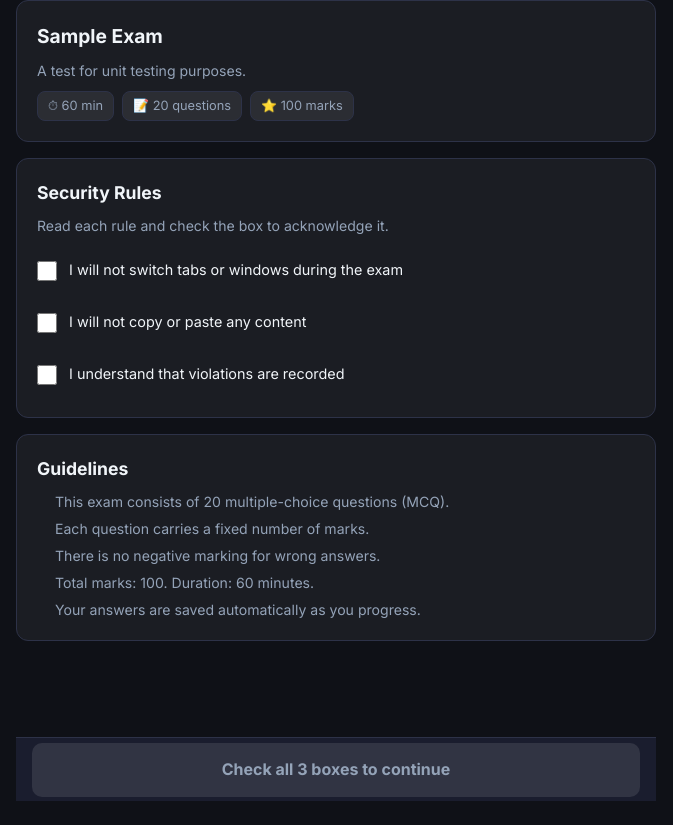
LobbyScreen › enables the Start Exam button after all 3 checkboxes are checked
Click the checkbox labelled "I will not switch tabs or windows during the exam" at (47, 270), box [37,260,57,280]
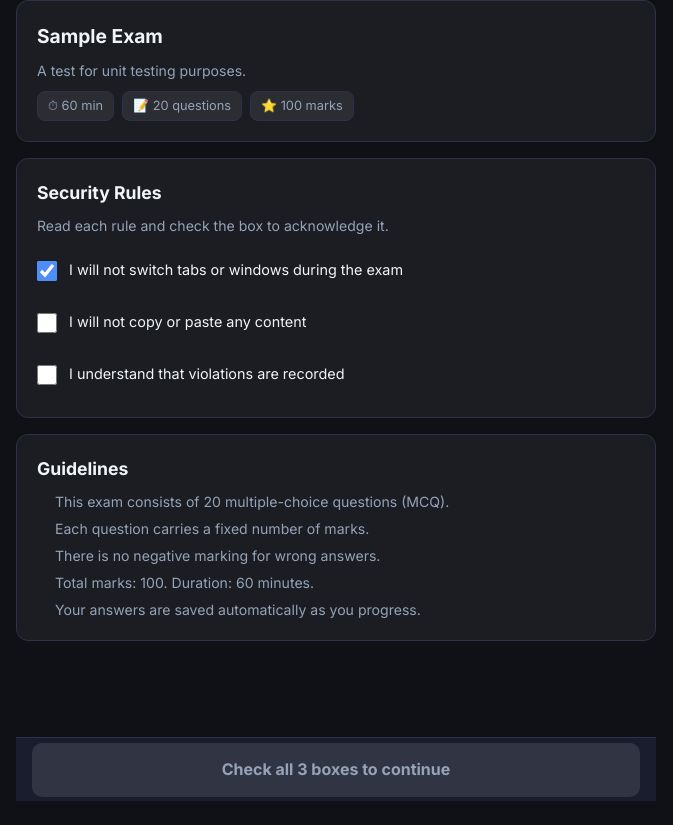
Click the checkbox labelled "I will not copy or paste any content" at (47, 322), box [37,312,57,332]
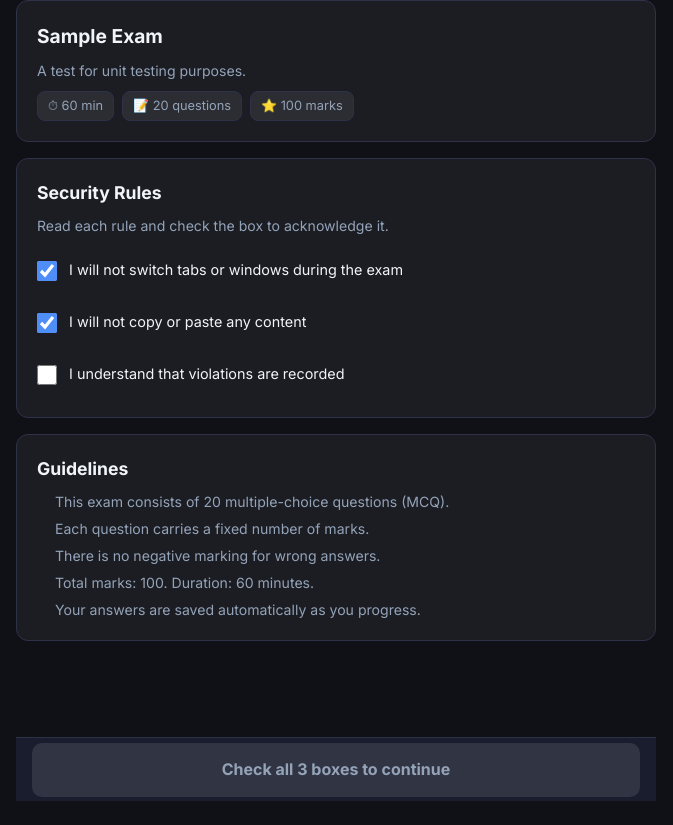
Click the checkbox labelled "I understand that violations are recorded" at (47, 374), box [37,364,57,384]
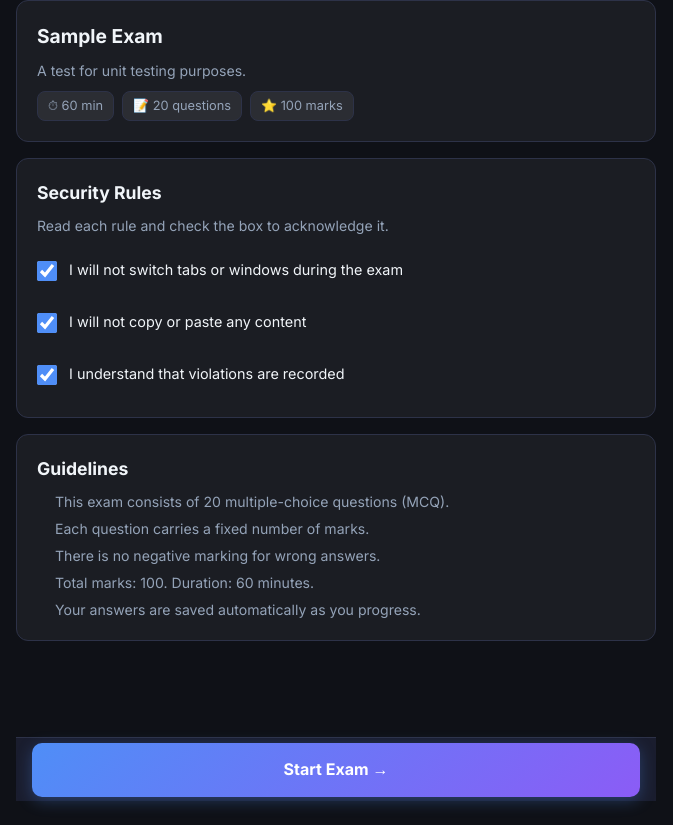
Check: the button "Start Exam →" is enabled, box [32,743,640,796]
